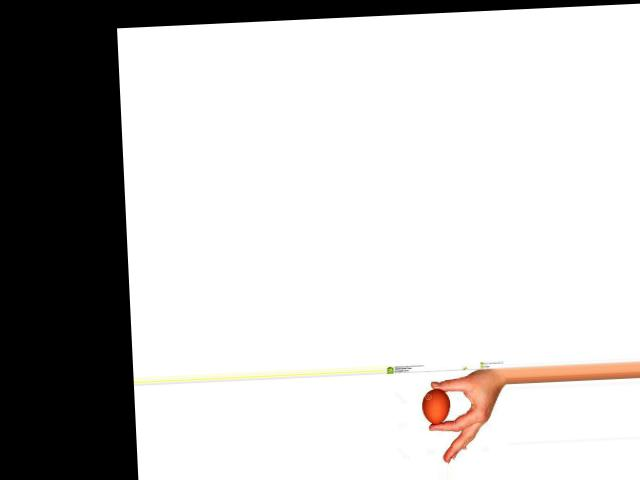egg: (421, 387, 451, 424)
